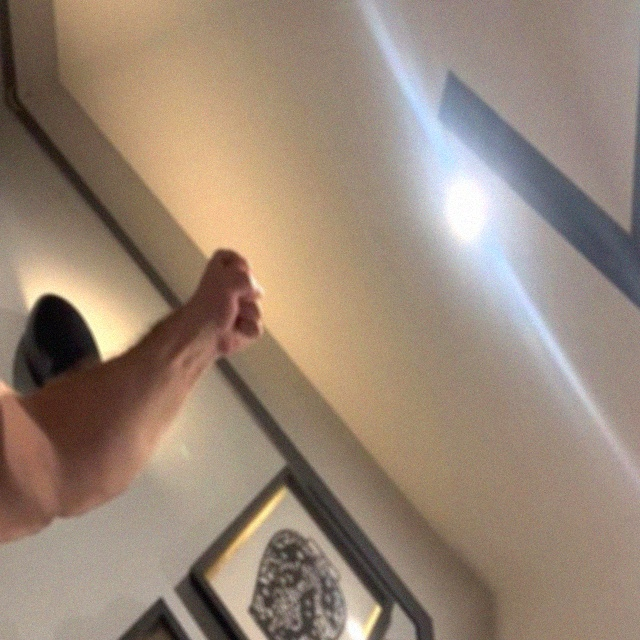Rock: (182, 239, 281, 359)
